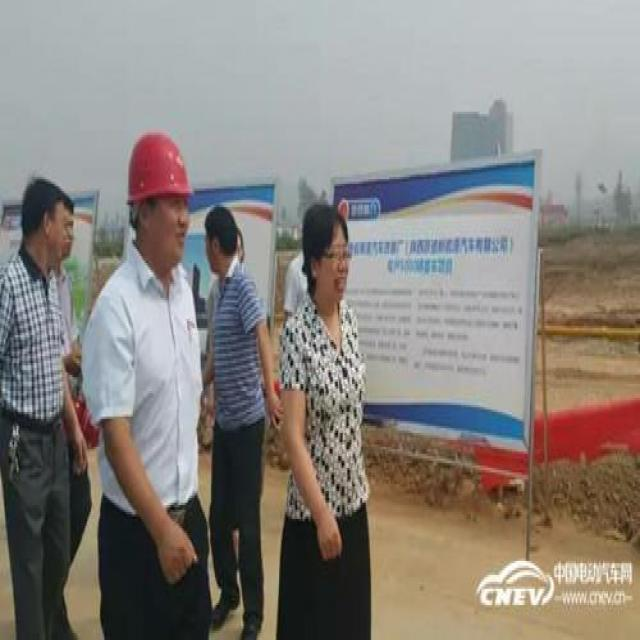hat: (124, 128, 197, 273)
